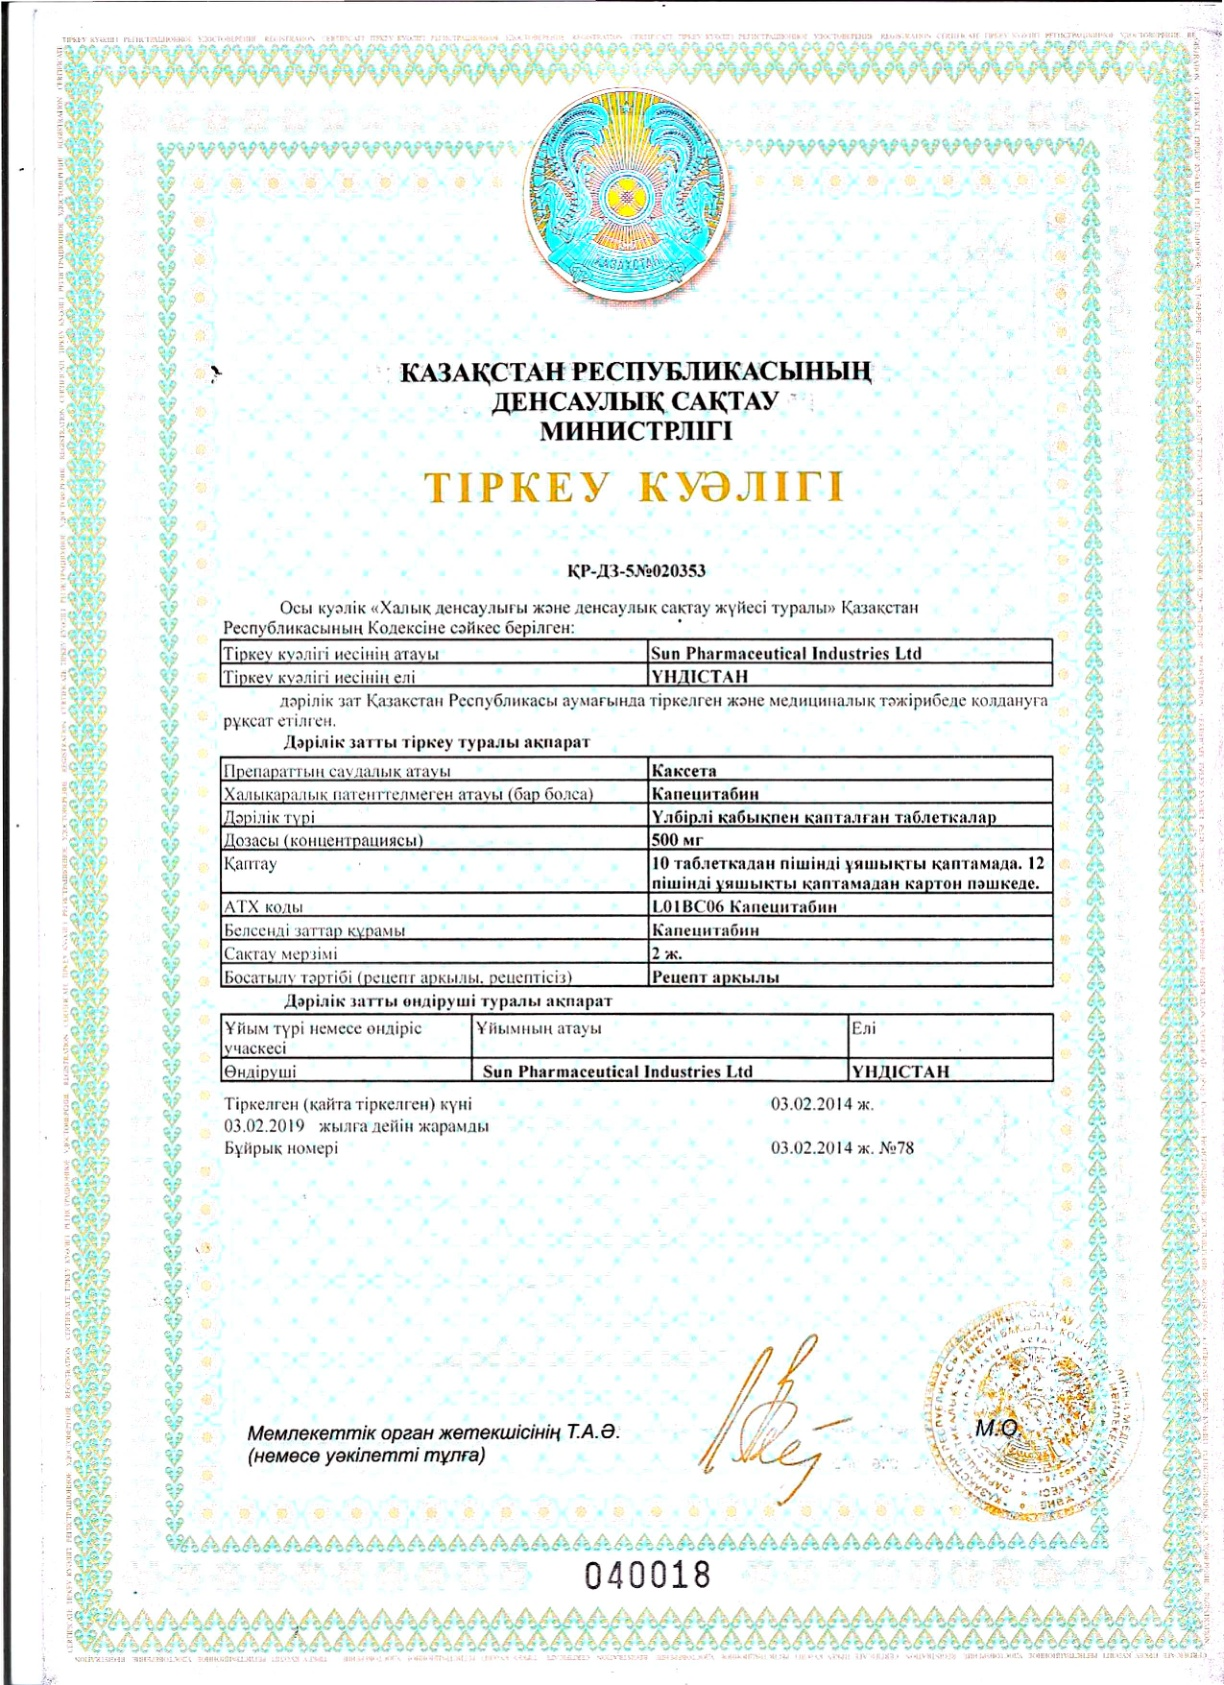full_lined: (216, 746, 1064, 997), (213, 1011, 1064, 1092), (216, 637, 1061, 692)
